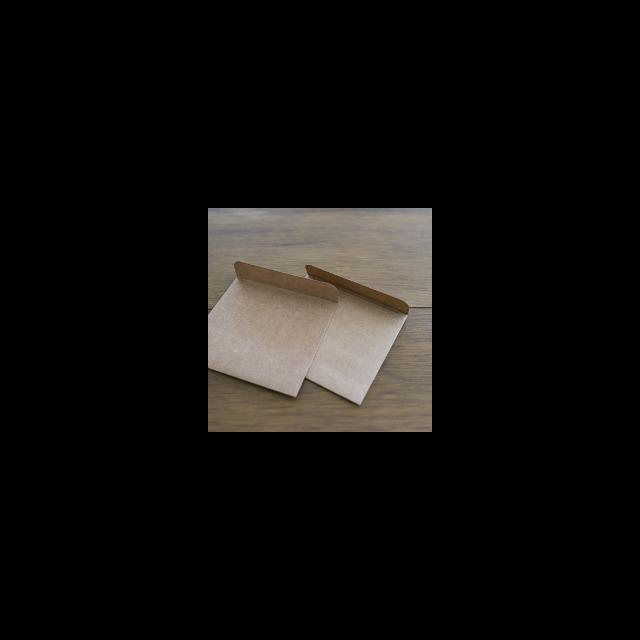paper: (208, 255, 339, 398), (301, 260, 407, 409)
